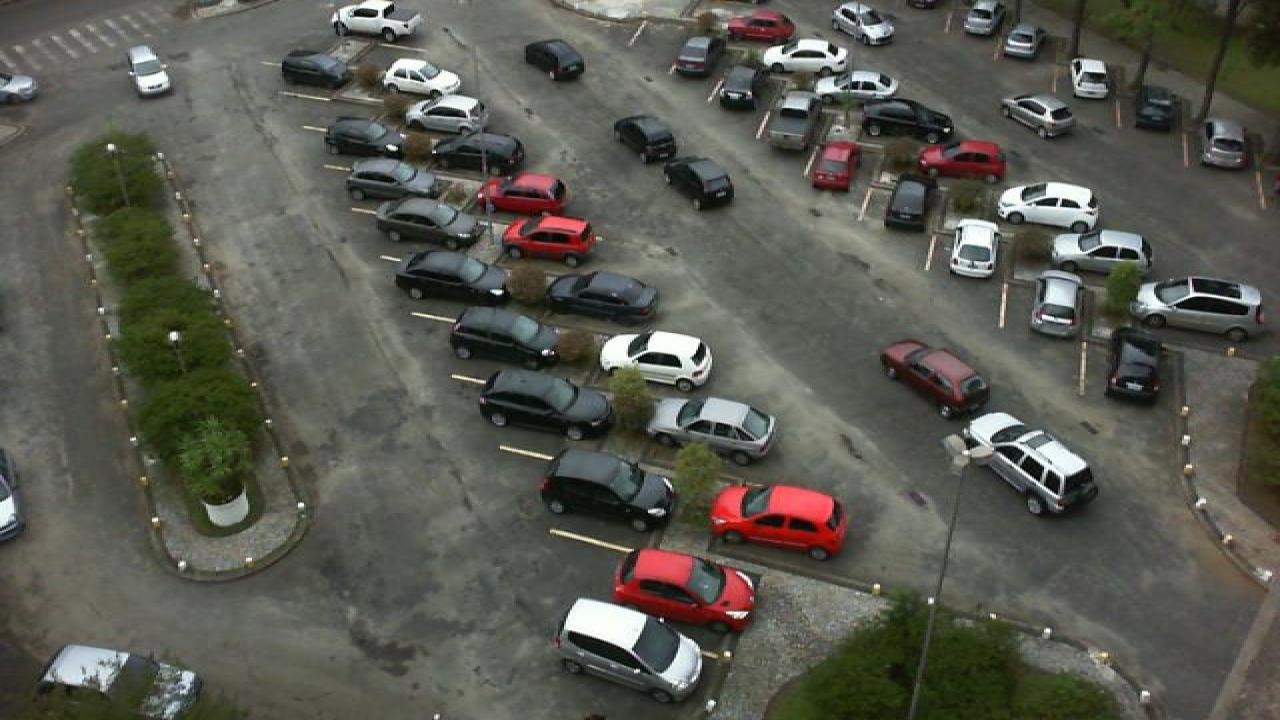Car: (548, 596, 708, 704), (956, 411, 1104, 516), (34, 643, 206, 720), (608, 546, 758, 634), (534, 447, 680, 532), (708, 484, 850, 561), (478, 367, 620, 441), (644, 393, 784, 464), (1128, 274, 1272, 342), (876, 336, 992, 420), (444, 304, 566, 371), (598, 327, 718, 394), (394, 248, 518, 308), (544, 269, 664, 326), (372, 196, 486, 251), (990, 180, 1104, 234), (1048, 230, 1156, 280), (502, 214, 600, 268), (1102, 326, 1168, 403), (1026, 269, 1092, 339), (346, 156, 442, 202), (860, 98, 956, 144), (914, 138, 1014, 182), (432, 132, 526, 178), (324, 116, 410, 162), (662, 156, 734, 210), (404, 94, 492, 138), (482, 171, 568, 215), (330, 0, 424, 40), (760, 89, 820, 151), (612, 112, 680, 165), (1000, 94, 1078, 140), (380, 57, 464, 99), (760, 37, 852, 74), (948, 218, 1002, 279), (828, 0, 898, 45), (278, 51, 358, 90), (520, 37, 588, 82), (122, 44, 176, 98), (820, 68, 900, 104), (806, 139, 860, 192), (880, 176, 932, 231), (1198, 115, 1250, 169), (724, 9, 798, 45), (714, 62, 764, 111), (1134, 82, 1182, 133), (668, 34, 718, 81), (1066, 56, 1114, 100), (1000, 25, 1044, 62), (960, 0, 1000, 37)
